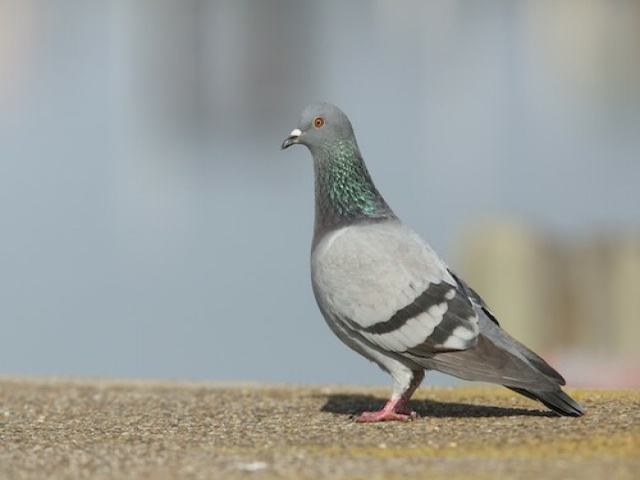Pigeon: (282, 99, 594, 438)
